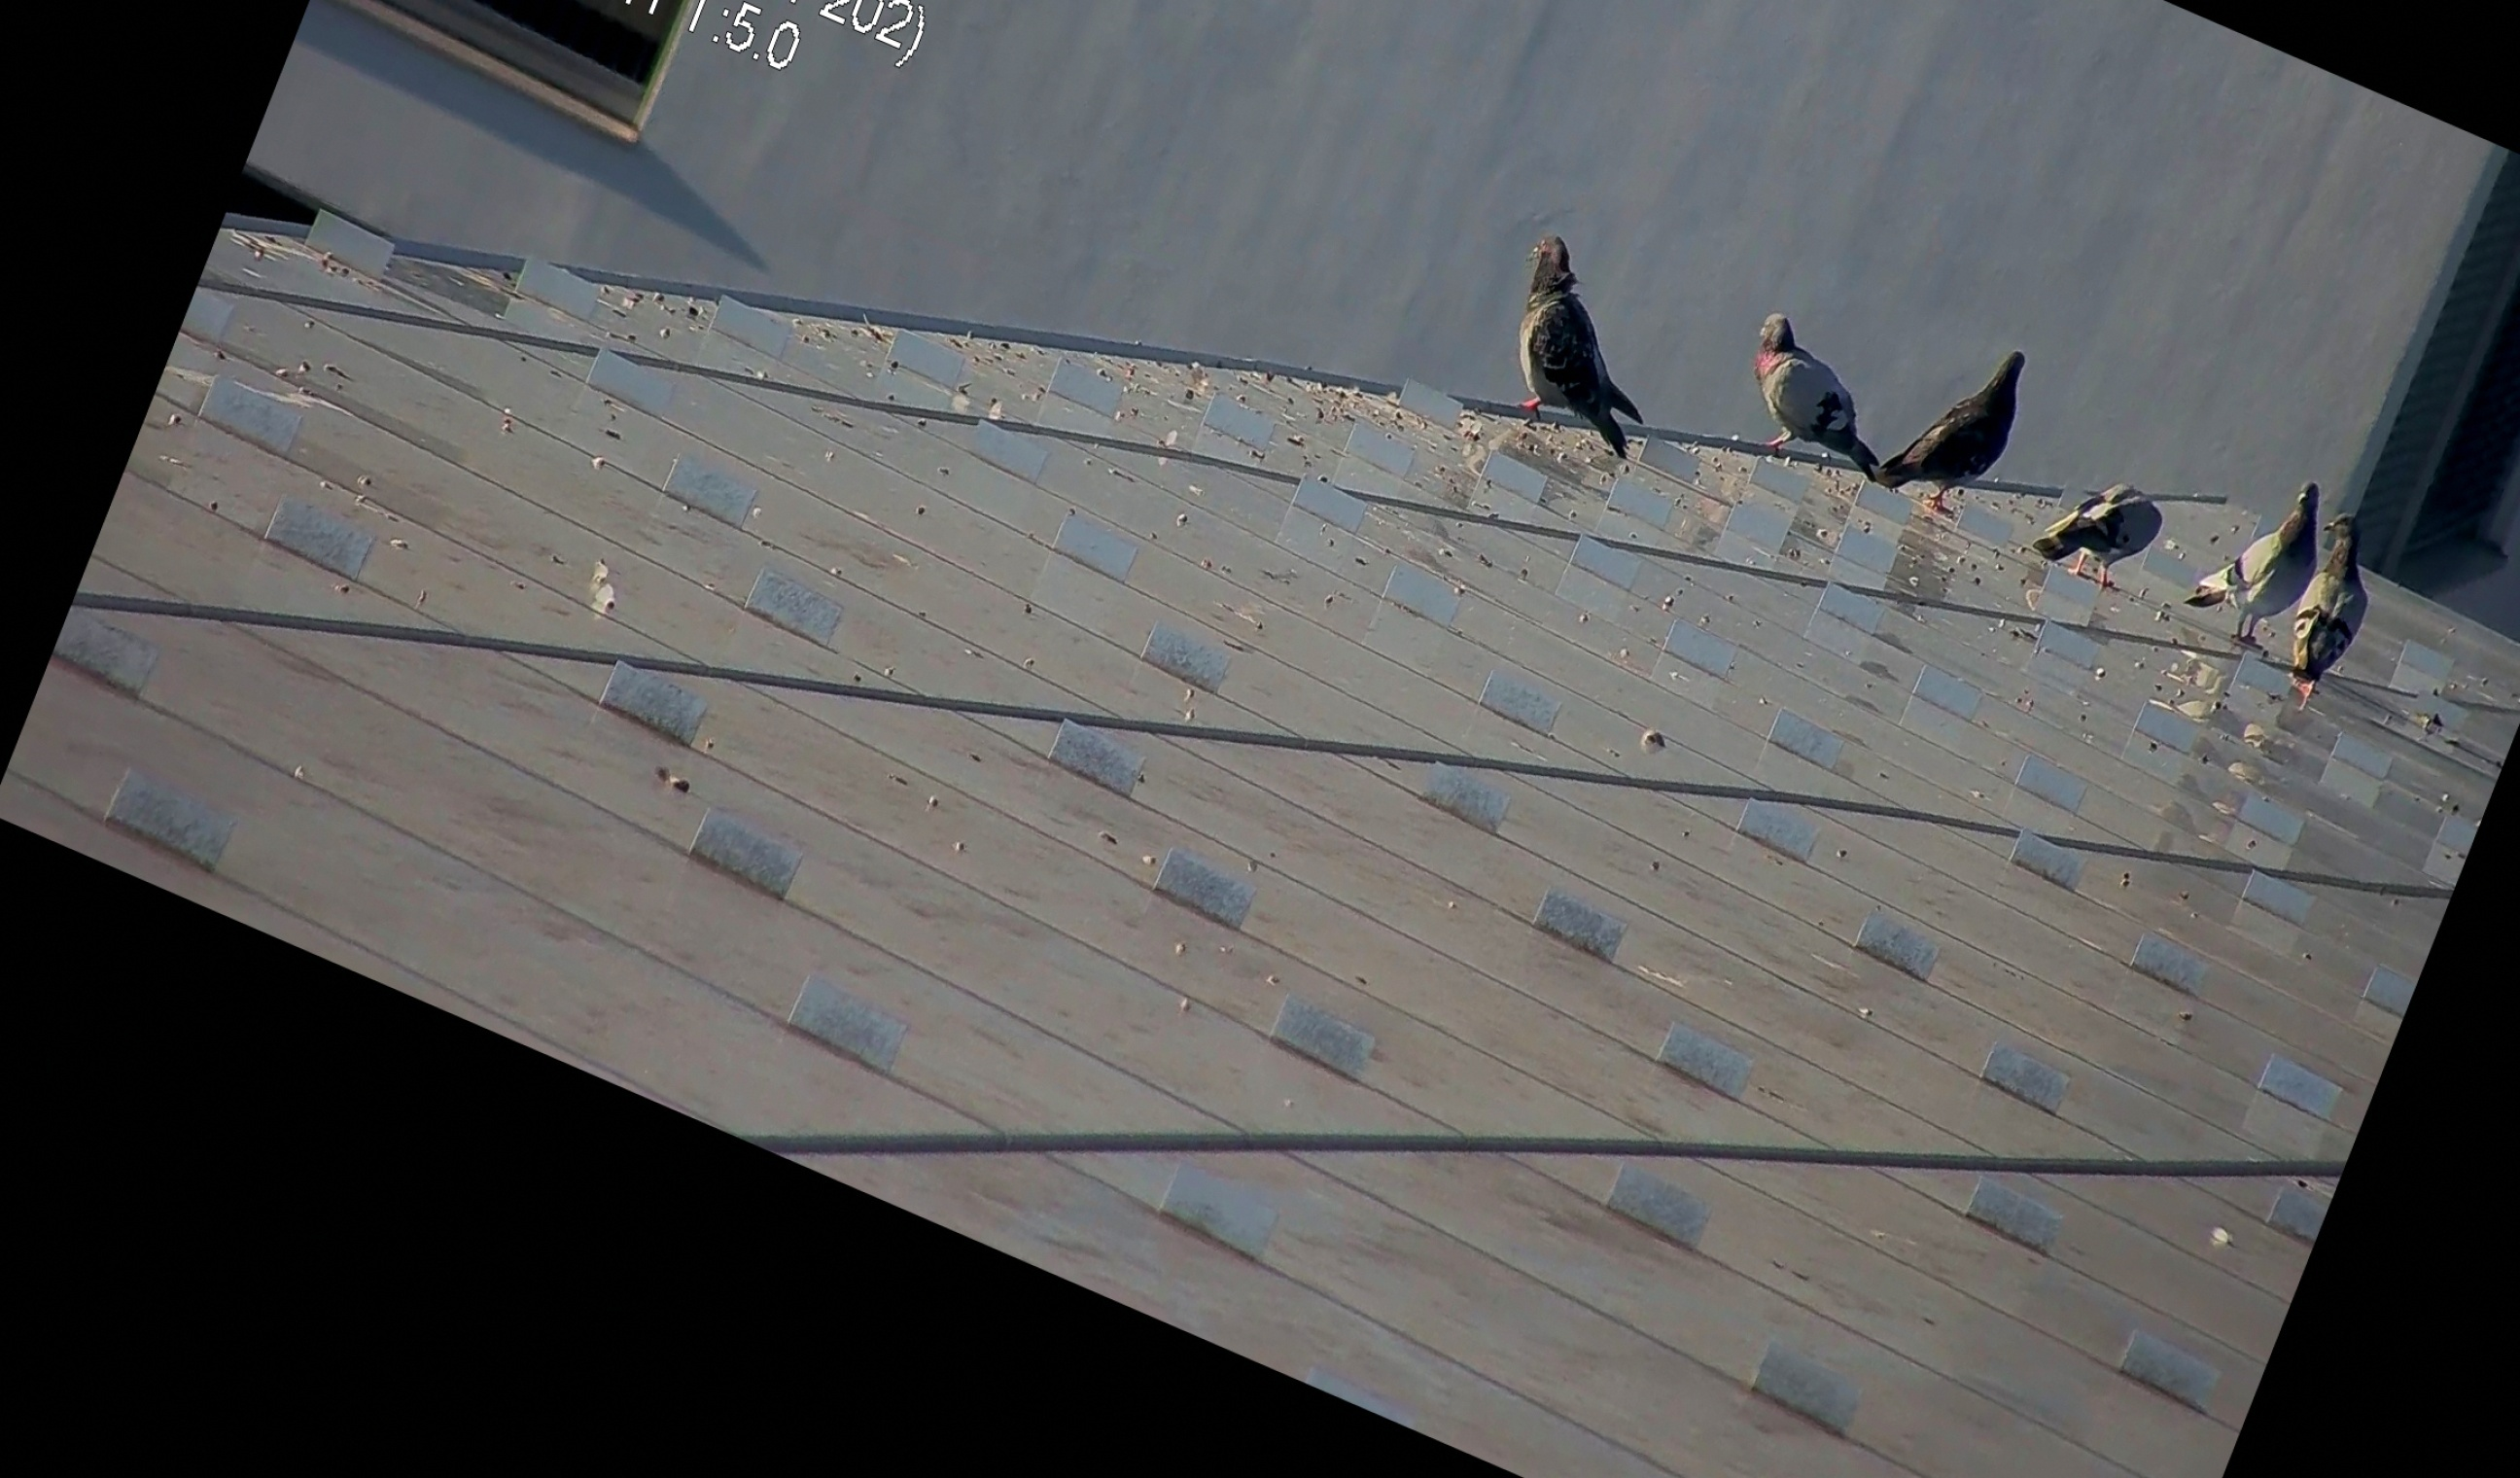Other: (1463, 220, 1704, 475), (2223, 465, 2420, 704), (1718, 290, 1940, 501), (1686, 338, 1906, 519), (1764, 333, 1903, 510), (1964, 394, 2105, 524)
